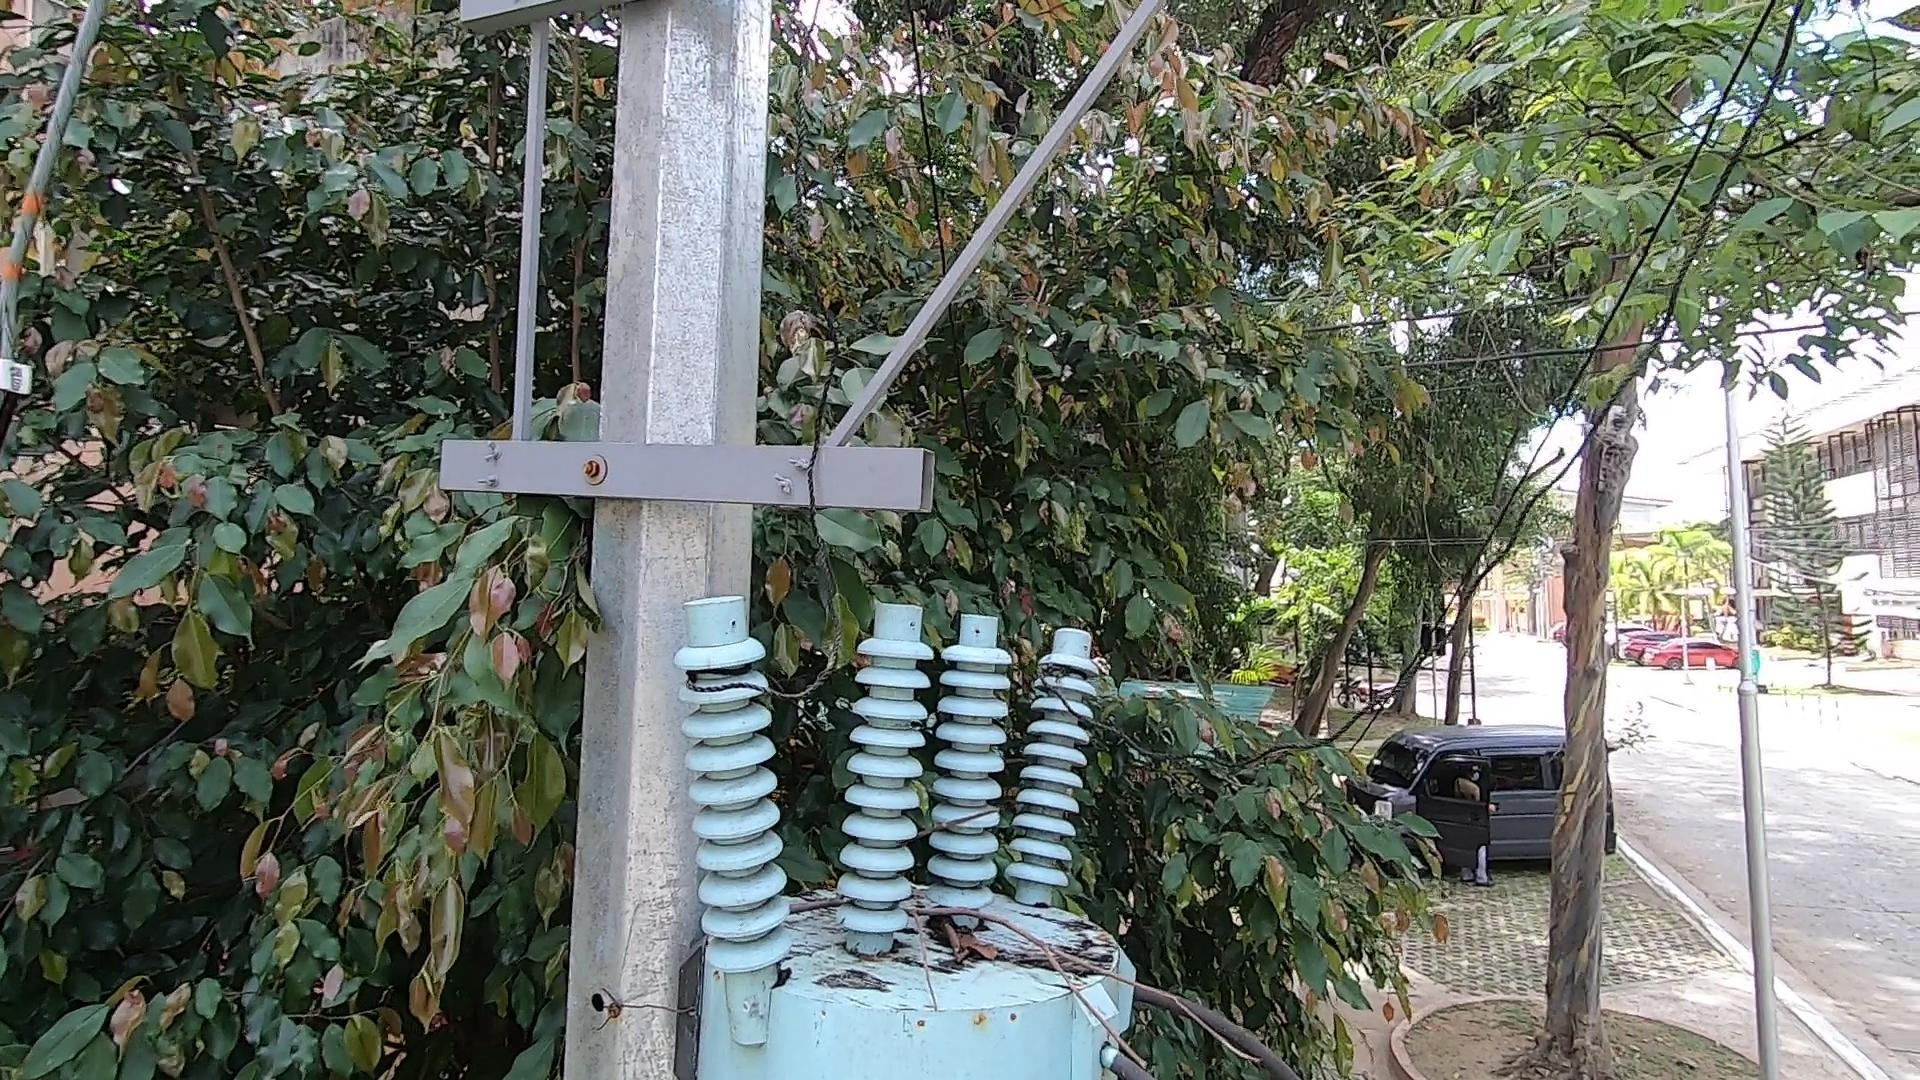leaf: (899, 885, 1007, 975)
tree branch: (777, 869, 1273, 1071)
